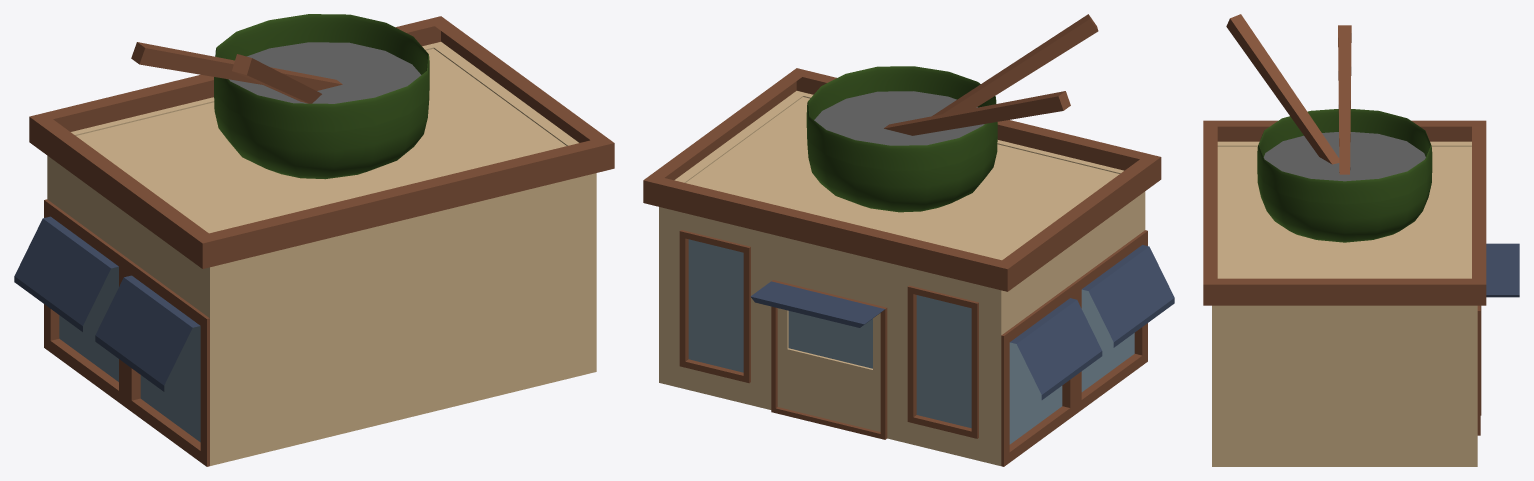
File: pho.fbx
3 renders of one model, left to right at view 1: azimuth 30°, elevation 25°; view 2: azimuth 150°, elevation 25°; view 3: azimuth 270°, elevation 25°, orthographic. The views are drawn at different scales.
Parts seen in each view (by area): view 1: bowl; view 2: bowl; view 3: bowl.
Boxes of the visible parts, bbox=[...] form: bowl: bbox=[14, 14, 614, 466]; bowl: bbox=[643, 14, 1174, 466]; bowl: bbox=[1203, 14, 1519, 466].
Size of the model in its own units: 1088 by 921 by 833.
